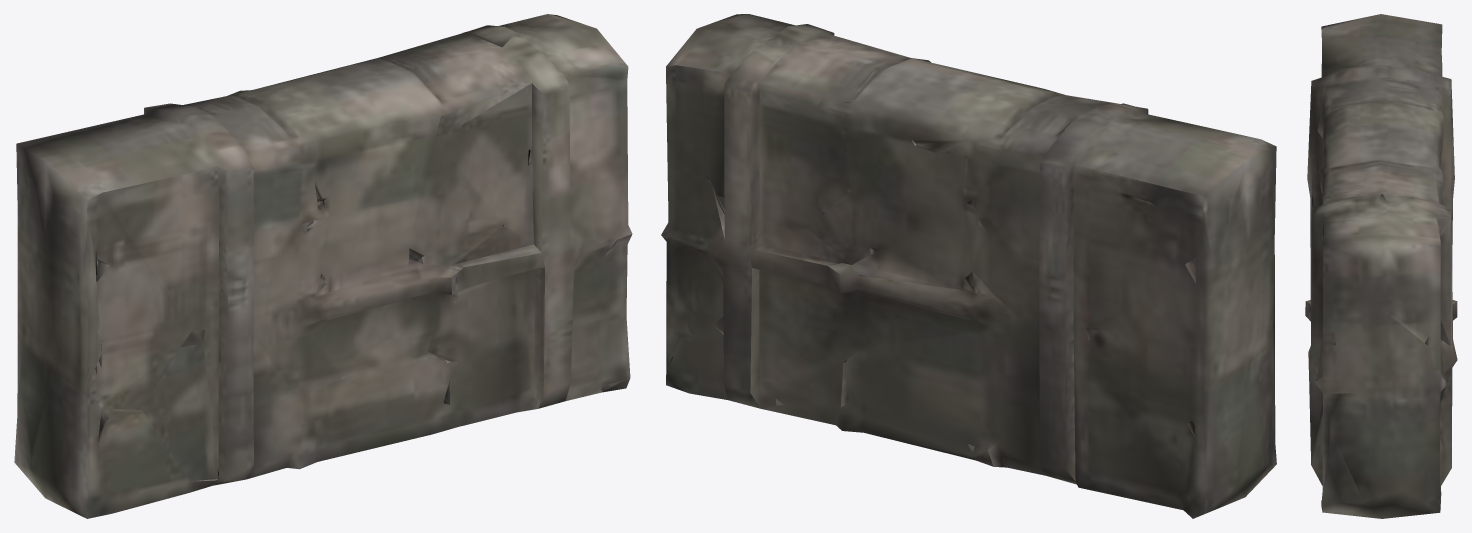
Rendered from wall_segment_1503486080_lod0.glb.
3 views of the same model, side by side, from view 1: azimuth 30°, elevation 25°; view 2: azimuth 150°, elevation 25°; view 3: azimuth 270°, elevation 25° (orthographic). The views are drawn at different scales.
Bounding box in the file's own units: 4.99 × 3.06 × 1.42.
Materials: 1 (1 with a texture image).
